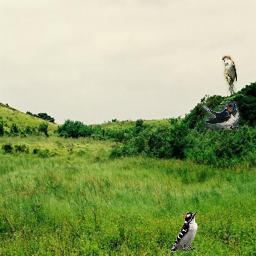Sparrow: (222, 55, 237, 95)
Swallow: (199, 101, 239, 131)
Woodpecker: (170, 212, 198, 252)
